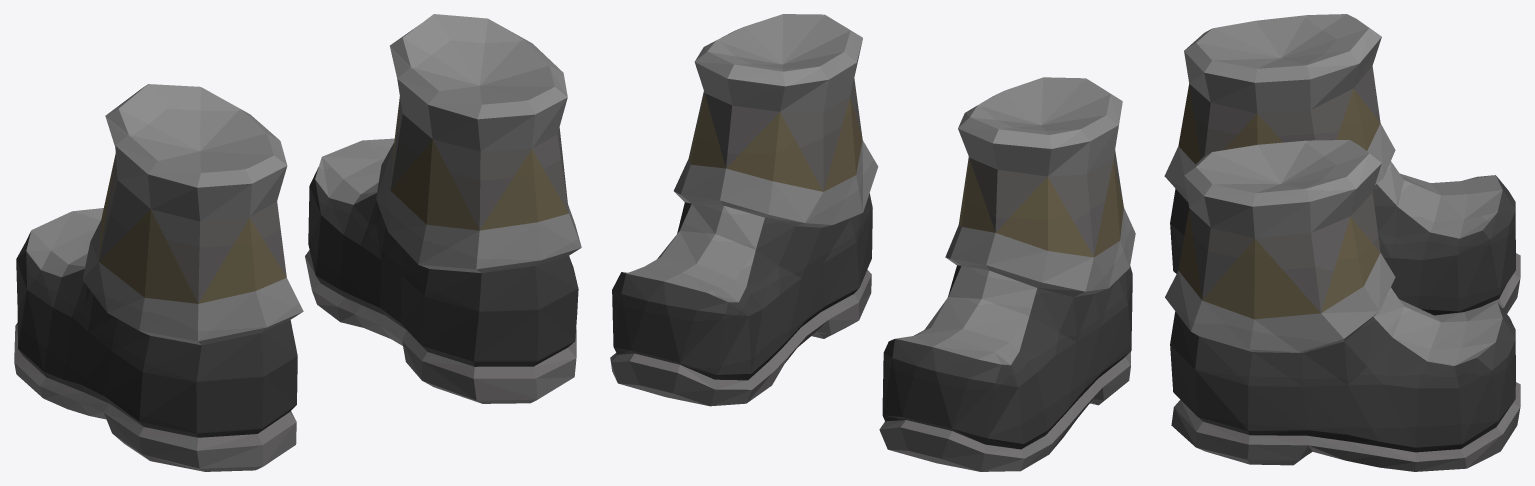
Rendered from CharSkyKid_Feet_AP25BootShort.glb.
3 views of the same model, side by side, from view 1: azimuth 30°, elevation 25°; view 2: azimuth 150°, elevation 25°; view 3: azimuth 270°, elevation 25° (orthographic). The views are drawn at different scales.
Visible parts, largest first — view 1: CharSkyKid_Feet_AP25BootShort; view 2: CharSkyKid_Feet_AP25BootShort; view 3: CharSkyKid_Feet_AP25BootShort.
Boxes of the visible parts, x1,y1,x2,y2 form: CharSkyKid_Feet_AP25BootShort: [14, 14, 581, 471]; CharSkyKid_Feet_AP25BootShort: [610, 14, 1135, 471]; CharSkyKid_Feet_AP25BootShort: [1164, 14, 1520, 471].
Bounding box in the file's own units: 2.91 × 1.93 × 2.2.
Materials: 1 (1 with a texture image).
